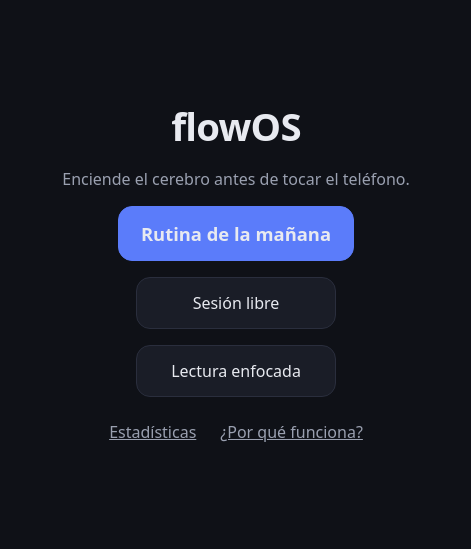
Test: App › completa una sesión libre: resumen sin respiración y racha intacta
The width and height of the screenshot is (471, 549).
What coordinates should you click on to do the following:
click the button "Sesión libre"
I would click on:
 (236, 302)
Its box is [136,276,336,328].
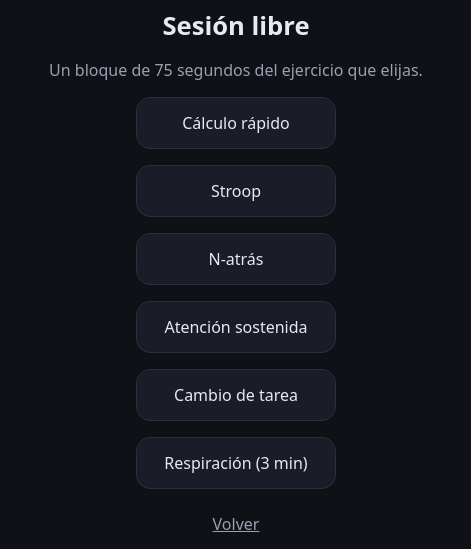
What coordinates should you click on to do the following:
click the button "Stroop"
I would click on:
 (236, 190)
Its box is [136,164,336,216].
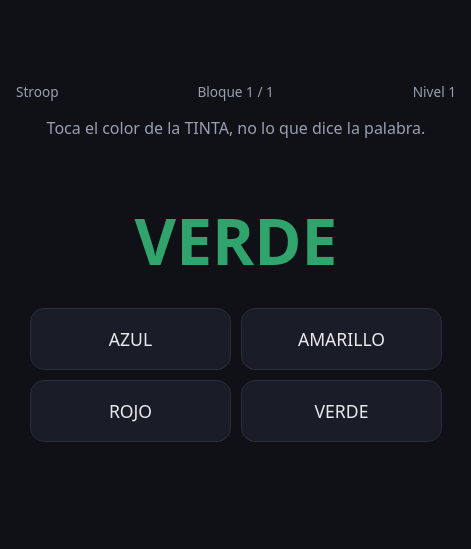
Expected: the text "Bloque 1 / 1" is shown, [198,82,274,101]
What coordinates should you click on to do the following:
click the button "AZUL"
I would click on:
 (130, 339)
Its box is [30,308,231,370].
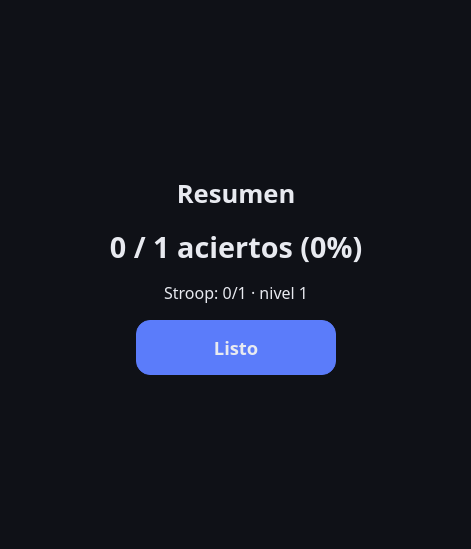
Expected: the heading "Resumen" is shown, [177,176,295,210]
